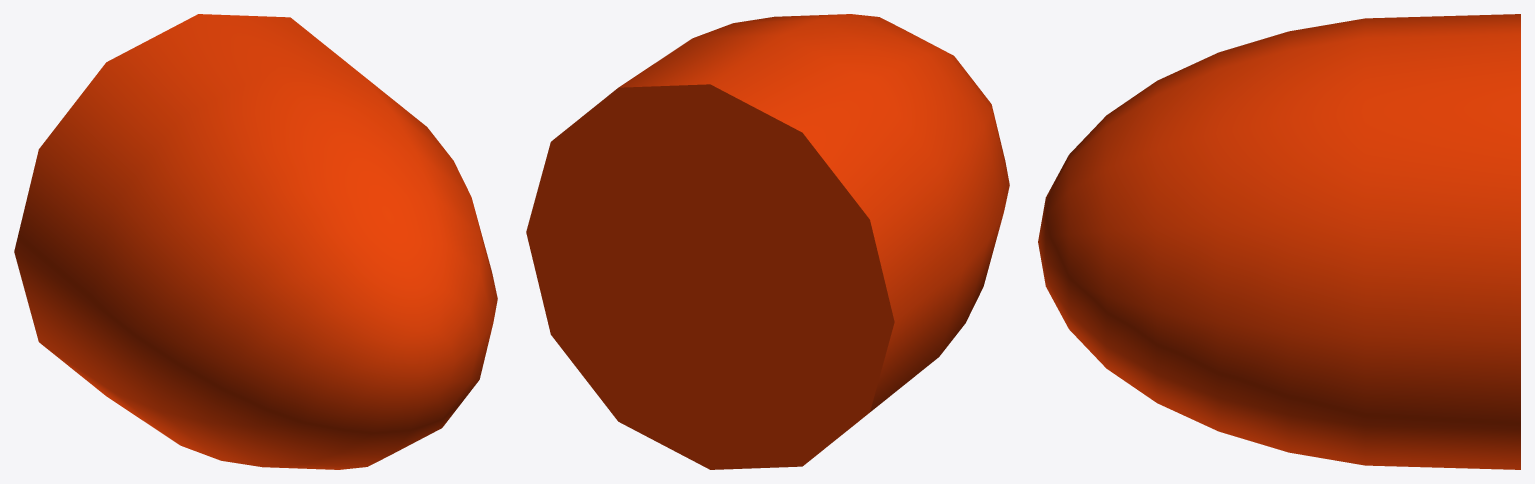
The model's file is bullet-9mm-shoot.fbx.
The picture shows the model from 3 angles, left to right: view 1: azimuth 30°, elevation 25°; view 2: azimuth 150°, elevation 25°; view 3: azimuth 270°, elevation 25°; orthographic projection. The views are drawn at different scales.
Visible parts, largest first — view 1: Bullet 9mm Shot; view 2: Bullet 9mm Shot; view 3: Bullet 9mm Shot.
Part boxes in pixels (bbox=[...]): Bullet 9mm Shot: bbox=[14, 14, 497, 469]; Bullet 9mm Shot: bbox=[526, 14, 1009, 469]; Bullet 9mm Shot: bbox=[1038, 14, 1520, 469].
Size of the model in its own units: 0.8949 by 0.8949 by 0.9442.
